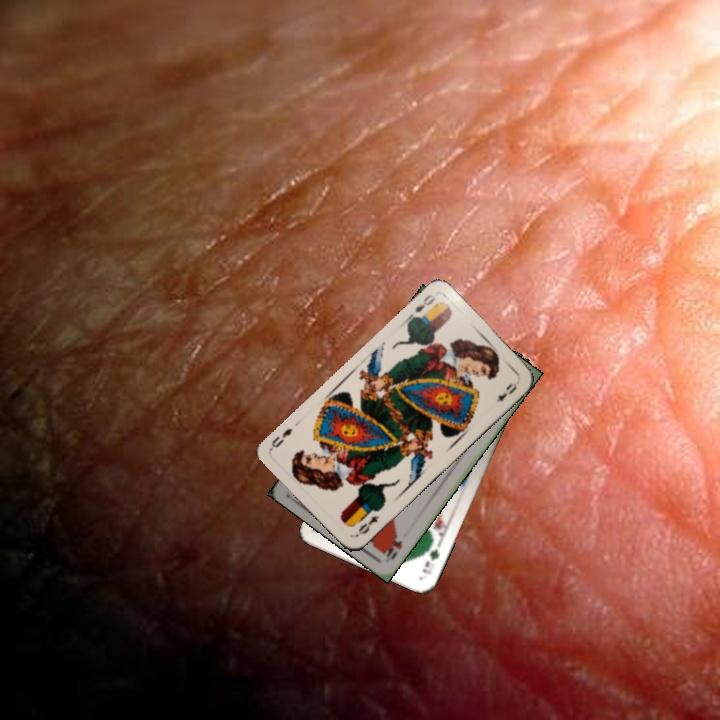EO: (405, 290, 438, 322), (352, 511, 382, 539)
GK: (418, 545, 442, 577)
HO: (379, 532, 405, 563)
